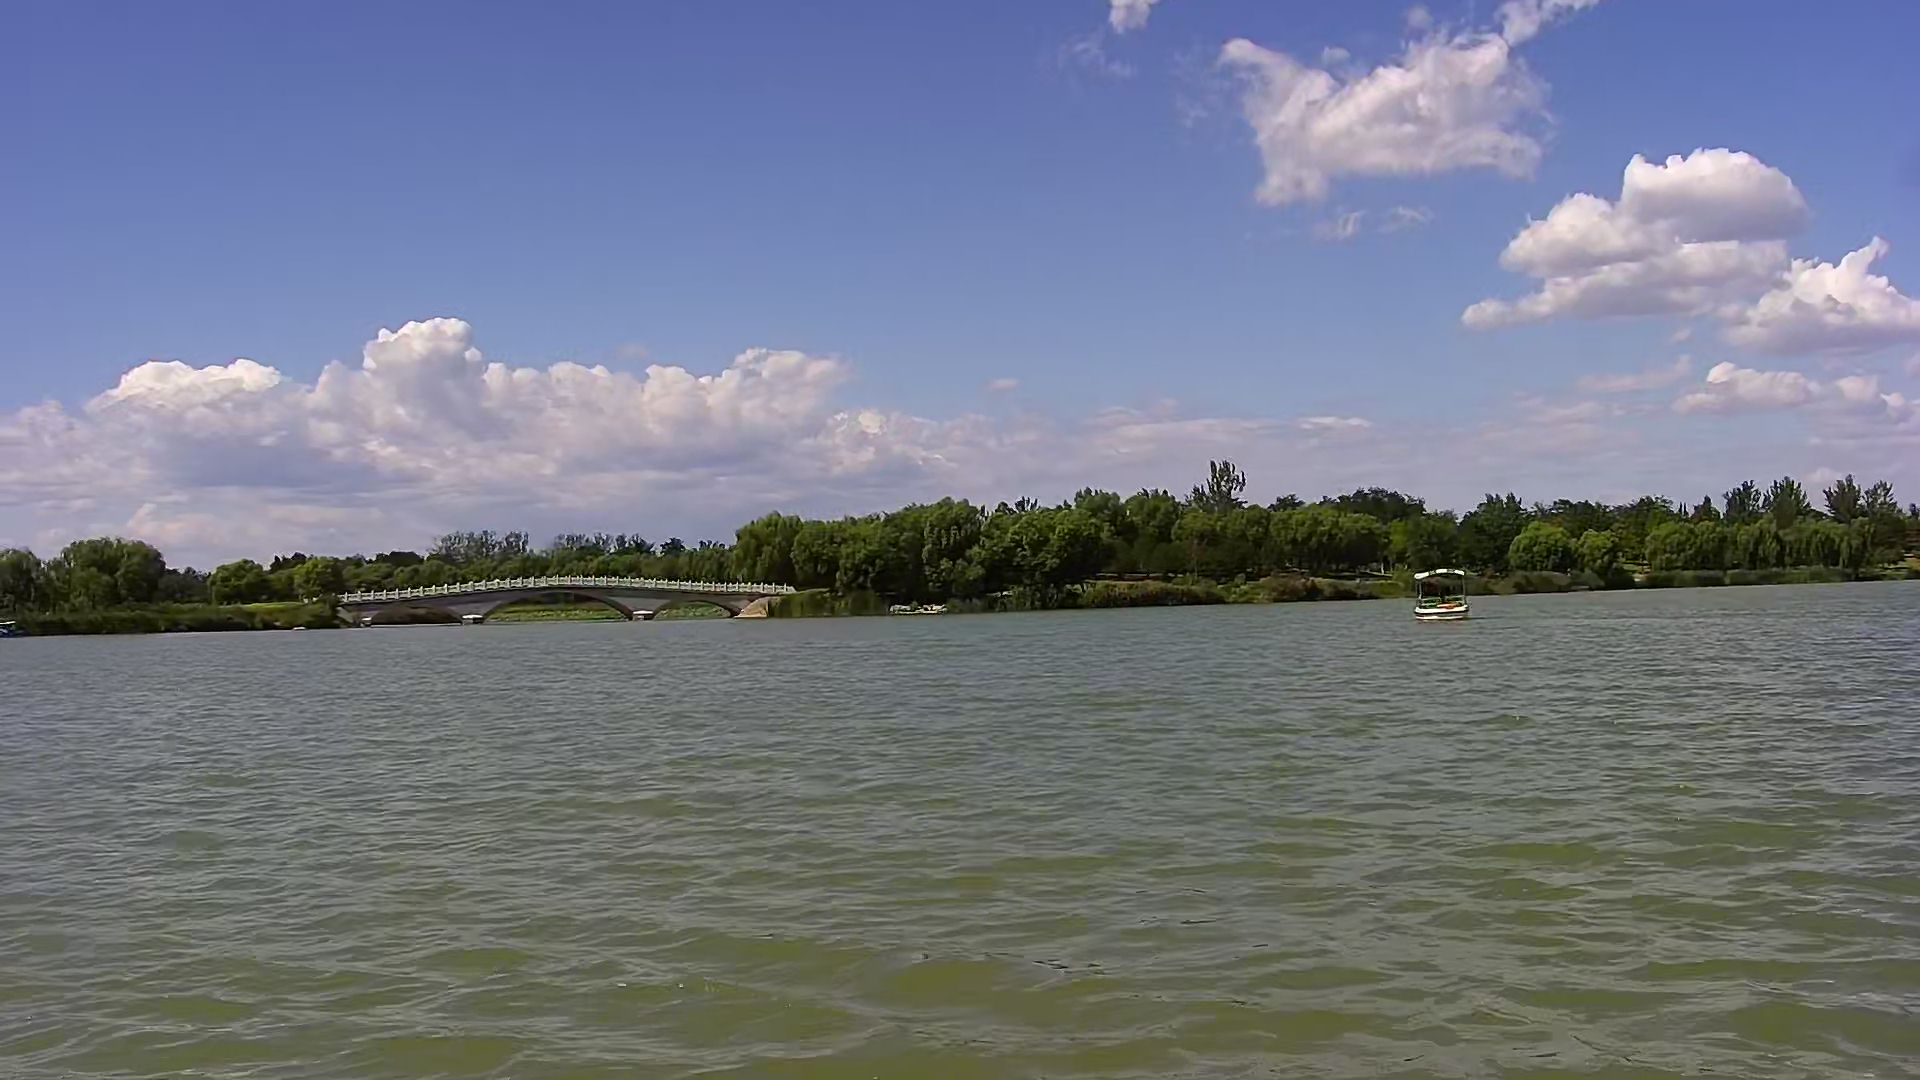boat: (1414, 568, 1472, 626)
bridge: (357, 576, 767, 622)
